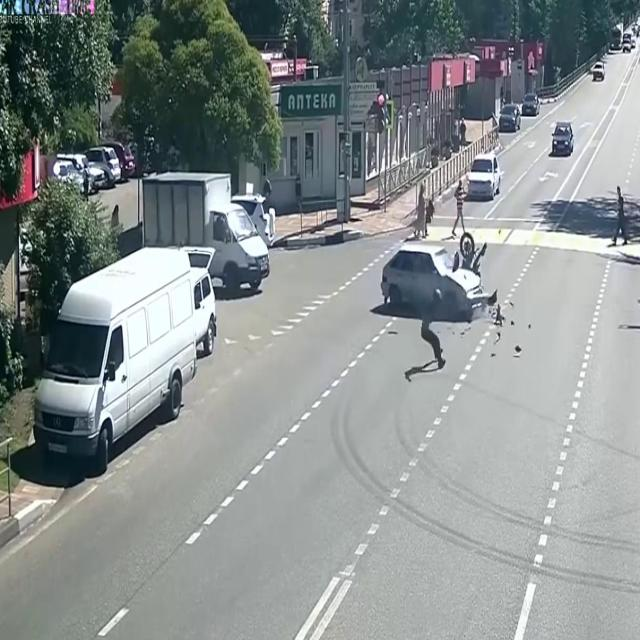accident: (367, 220, 518, 380)
non_accident: (15, 136, 277, 486)
